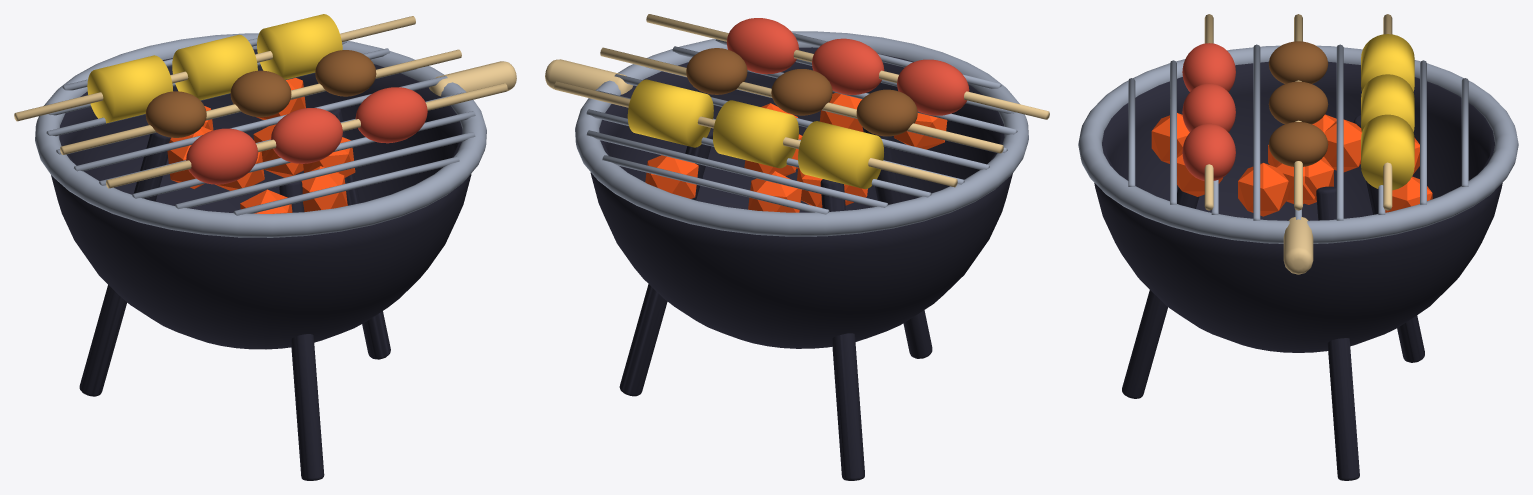
Rendered from grill.glb.
The picture shows the model from 3 angles, left to right: view 1: azimuth 30°, elevation 25°; view 2: azimuth 150°, elevation 25°; view 3: azimuth 270°, elevation 25°; orthographic projection. The views are drawn at different scales.
Parts seen in each view (by area): view 1: bowl, rim, corn2_0, leg2, corn2_1, corn2_2, leg1, saus0_0, saus0_2, saus0_1, stick1, grate1 (+16 smaller); view 2: bowl, rim, corn2_2, corn2_1, corn2_0, leg1, saus0_1, saus0_0, saus0_2, leg0, stick1, grate7 (+17 smaller); view 3: bowl, rim, leg0, corn2_2, leg2, saus0_2, corn2_1, corn2_0, mush1_2, mush1_1, mush1_0, saus0_0 (+19 smaller).
Boxes of the visible parts, bbox=[...] form: bowl: bbox=[51, 49, 471, 349]; rim: bbox=[35, 33, 486, 237]; corn2_0: bbox=[87, 55, 172, 123]; leg2: bbox=[279, 181, 324, 480]; corn2_1: bbox=[172, 34, 257, 100]; corn2_2: bbox=[257, 14, 342, 79]; leg1: bbox=[79, 132, 170, 396]; saus0_0: bbox=[186, 128, 257, 184]; saus0_2: bbox=[355, 87, 427, 143]; saus0_1: bbox=[270, 108, 342, 163]; stick1: bbox=[60, 49, 461, 154]; grate1: bbox=[175, 132, 475, 208]; bowl: bbox=[590, 47, 1012, 348]; rim: bbox=[575, 31, 1028, 236]; corn2_2: bbox=[627, 79, 713, 147]; corn2_1: bbox=[713, 100, 798, 168]; corn2_0: bbox=[798, 121, 883, 189]; leg1: bbox=[820, 179, 864, 480]; saus0_1: bbox=[812, 38, 884, 94]; saus0_0: bbox=[897, 59, 969, 115]; saus0_2: bbox=[726, 18, 799, 74]; leg0: bbox=[619, 128, 713, 396]; stick1: bbox=[600, 47, 1003, 153]; grate7: bbox=[586, 130, 888, 207]; bowl: bbox=[1094, 61, 1502, 352]; rim: bbox=[1078, 45, 1518, 243]; leg0: bbox=[1316, 186, 1359, 480]; corn2_2: bbox=[1361, 114, 1414, 190]; leg2: bbox=[1122, 187, 1199, 398]; saus0_2: bbox=[1182, 123, 1235, 180]; corn2_1: bbox=[1361, 74, 1414, 131]; corn2_0: bbox=[1361, 34, 1414, 91]; mush1_2: bbox=[1268, 122, 1328, 166]; mush1_1: bbox=[1268, 81, 1328, 124]; mush1_0: bbox=[1268, 41, 1328, 83]; saus0_0: bbox=[1182, 43, 1235, 91].
Bounding box in the file's own units: 1.7 × 1.21 × 1.48.
